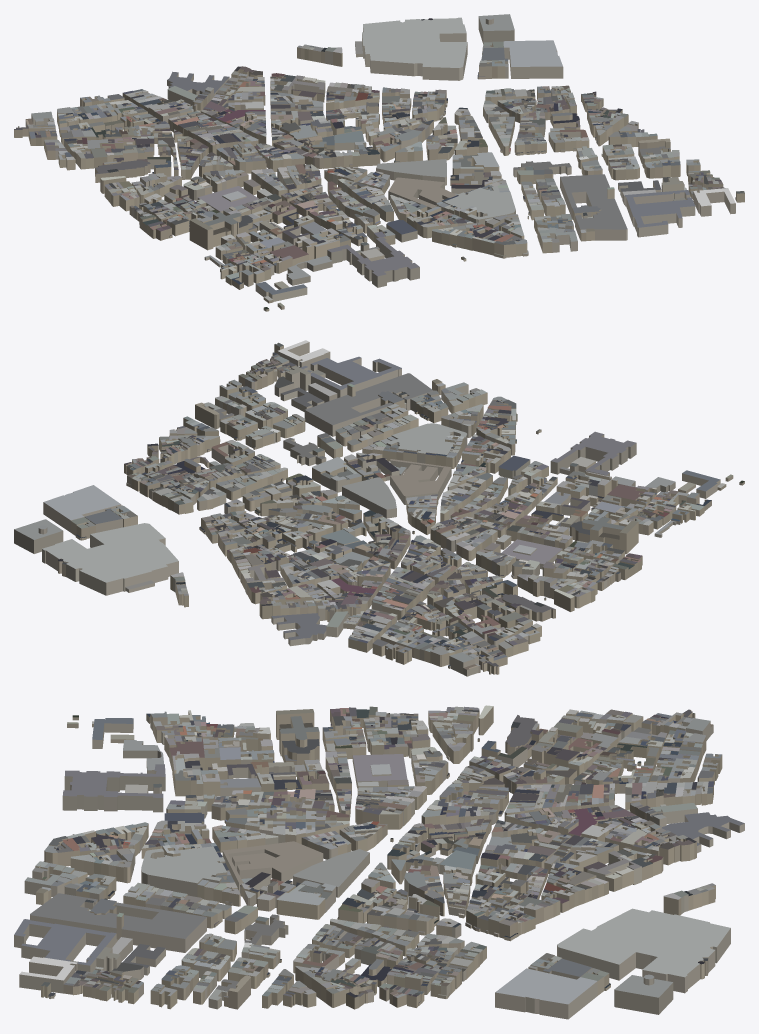
The picture shows the model from 3 angles, top to bottom: view 1: azimuth 30°, elevation 25°; view 2: azimuth 150°, elevation 25°; view 3: azimuth 270°, elevation 25°; orthographic projection. The views are drawn at different scales.
Parts seen in each view (by area): view 1: tuile; view 2: tuile; view 3: tuile.
Part boxes in pixels (x1,y1,x2,y2): tuile: [14, 14, 744, 311]; tuile: [14, 340, 744, 676]; tuile: [14, 705, 744, 1019].
Size of the model in its own units: 1056 by 53.86 by 1084.
